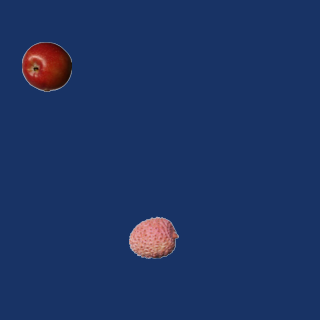Apple Braeburn: (21, 41, 71, 91)
Lychee: (128, 212, 178, 262)
